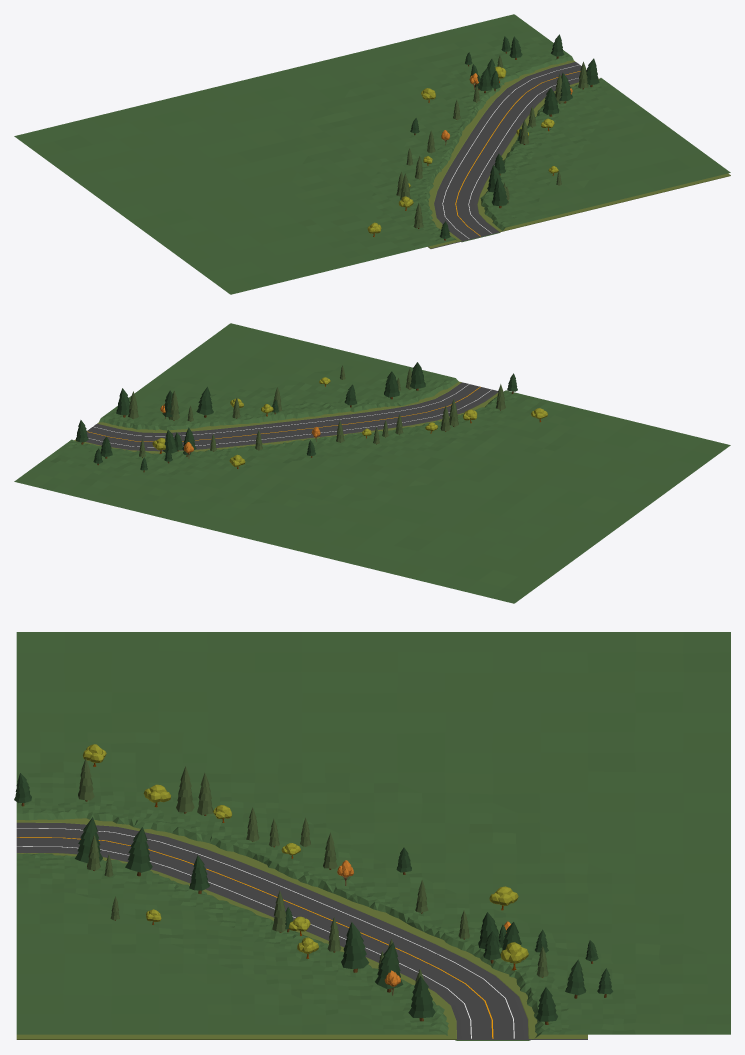
The model's file is ForestRoadLeft4.fbx.
The picture shows the model from 3 angles, top to bottom: view 1: azimuth 30°, elevation 25°; view 2: azimuth 150°, elevation 25°; view 3: azimuth 270°, elevation 25°; orthographic projection. The views are drawn at different scales.
Parts seen in each view (by area): view 1: FRL4Plane, FRL4Road; view 2: FRL4Plane, FRL4Road; view 3: FRL4Plane, FRL4Road, FRL4Plane|pineTree04|Dupli|26, FRL4Plane|pineTree04|Dupli|27, FRL4Plane|pineTree04|Dupli|29, FRL4Plane|pineTree04|Dupli|44.
Boxes of the visible parts, bbox=[...] form: FRL4Plane: bbox=[14, 14, 730, 294]; FRL4Road: bbox=[428, 60, 730, 248]; FRL4Plane: bbox=[14, 323, 730, 603]; FRL4Road: bbox=[74, 381, 498, 453]; FRL4Plane: bbox=[16, 632, 730, 1040]; FRL4Road: bbox=[16, 818, 587, 1039]; FRL4Plane|pineTree04|Dupli|26: bbox=[341, 922, 369, 972]; FRL4Plane|pineTree04|Dupli|27: bbox=[125, 827, 152, 876]; FRL4Plane|pineTree04|Dupli|29: bbox=[408, 976, 435, 1021]; FRL4Plane|pineTree04|Dupli|44: bbox=[375, 942, 403, 992].
Size of what is drawn, in the model's own units: 40000 by 2612 by 30112.
